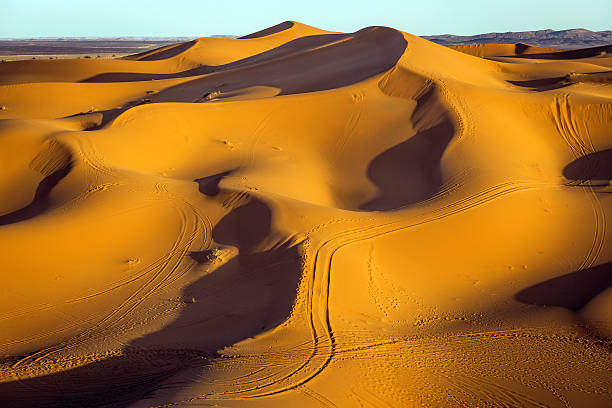vehicle_track: (194, 180, 557, 398), (195, 180, 549, 398), (195, 181, 549, 398), (12, 197, 210, 367), (0, 232, 182, 318), (0, 254, 165, 319), (336, 326, 596, 360), (438, 372, 547, 407), (551, 93, 592, 156), (578, 186, 606, 269), (578, 183, 605, 269)
